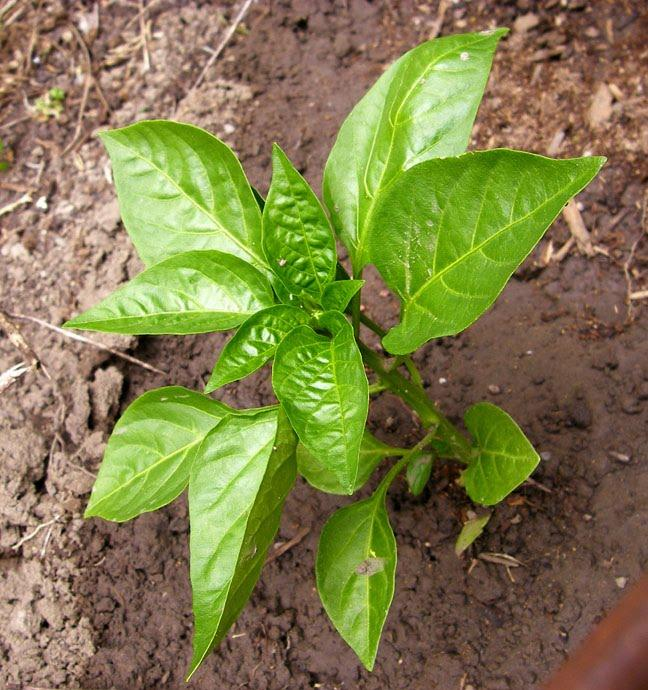Bell_pepper leaf spot: (367, 149, 610, 355), (89, 117, 270, 302), (185, 407, 301, 670), (83, 386, 268, 522), (56, 255, 286, 357), (276, 313, 374, 505), (309, 493, 399, 679), (250, 137, 340, 311), (454, 400, 541, 505), (205, 306, 308, 390)
